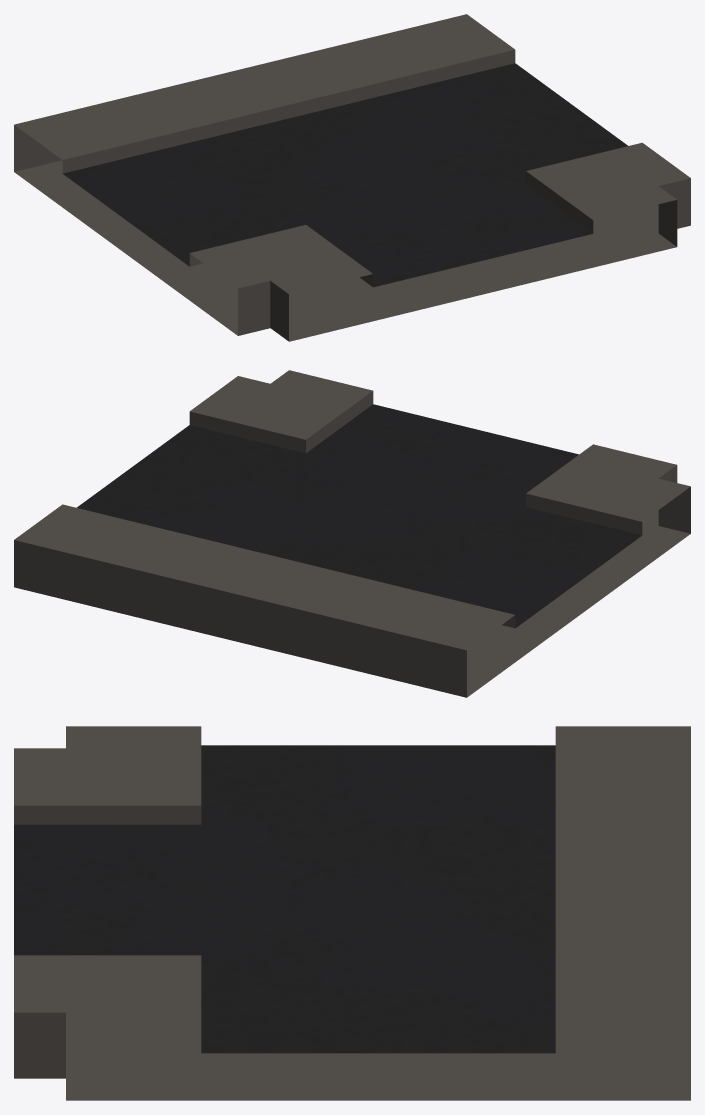
File: Crossroad_T.fbx
The picture shows the model from 3 angles, top to bottom: view 1: azimuth 30°, elevation 25°; view 2: azimuth 150°, elevation 25°; view 3: azimuth 270°, elevation 25°; orthographic projection. The views are drawn at different scales.
Parts seen in each view (by area): view 1: Crossroad.004; view 2: Crossroad.004; view 3: Crossroad.004.
Part boxes in pixels (x1=…): Crossroad.004: x1=14, y1=14, x2=690, y2=341; Crossroad.004: x1=14, y1=370, x2=690, y2=697; Crossroad.004: x1=14, y1=726, x2=690, y2=1100.
Bounding box in the file's own units: 700 × 70 × 650.
